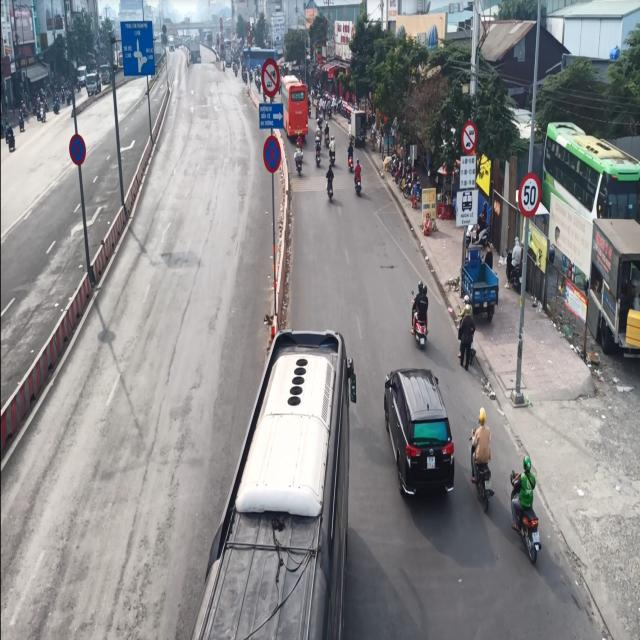bus: (196, 322, 369, 640)
car: (382, 358, 451, 504)
motor: (511, 450, 545, 562), (466, 407, 491, 530), (408, 278, 434, 364)
